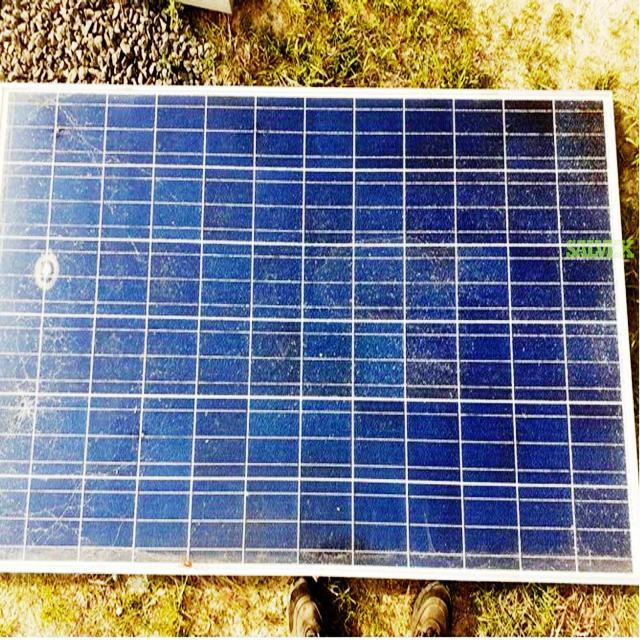faulty: (0, 88, 639, 572)
